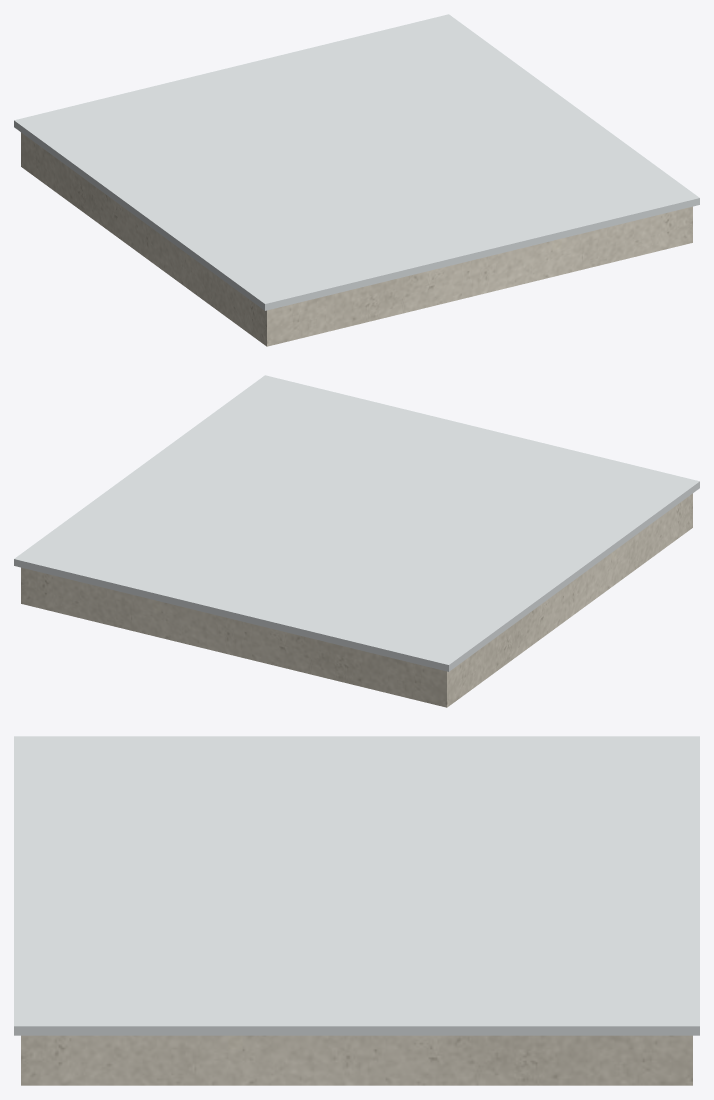
Rendered from floor_tile_bath.glb.
3 views of the same model, one above another, from view 1: azimuth 30°, elevation 25°; view 2: azimuth 150°, elevation 25°; view 3: azimuth 270°, elevation 25° (orthographic). The views are drawn at different scales.
Visible parts, largest first — view 1: floor_tile_bath_tile, floor_tile_bath_plaster; view 2: floor_tile_bath_tile, floor_tile_bath_plaster; view 3: floor_tile_bath_tile, floor_tile_bath_plaster.
Boxes of the visible parts, x1=… form: floor_tile_bath_tile: x1=14, y1=14, x2=699, y2=310; floor_tile_bath_plaster: x1=21, y1=132, x2=692, y2=346; floor_tile_bath_tile: x1=14, y1=375, x2=699, y2=671; floor_tile_bath_plaster: x1=21, y1=493, x2=692, y2=707; floor_tile_bath_tile: x1=14, y1=736, x2=699, y2=1035; floor_tile_bath_plaster: x1=21, y1=1035, x2=692, y2=1085.
Size of the model in its own units: 2 by 0.2 by 2.
2 materials, 1 textured.
